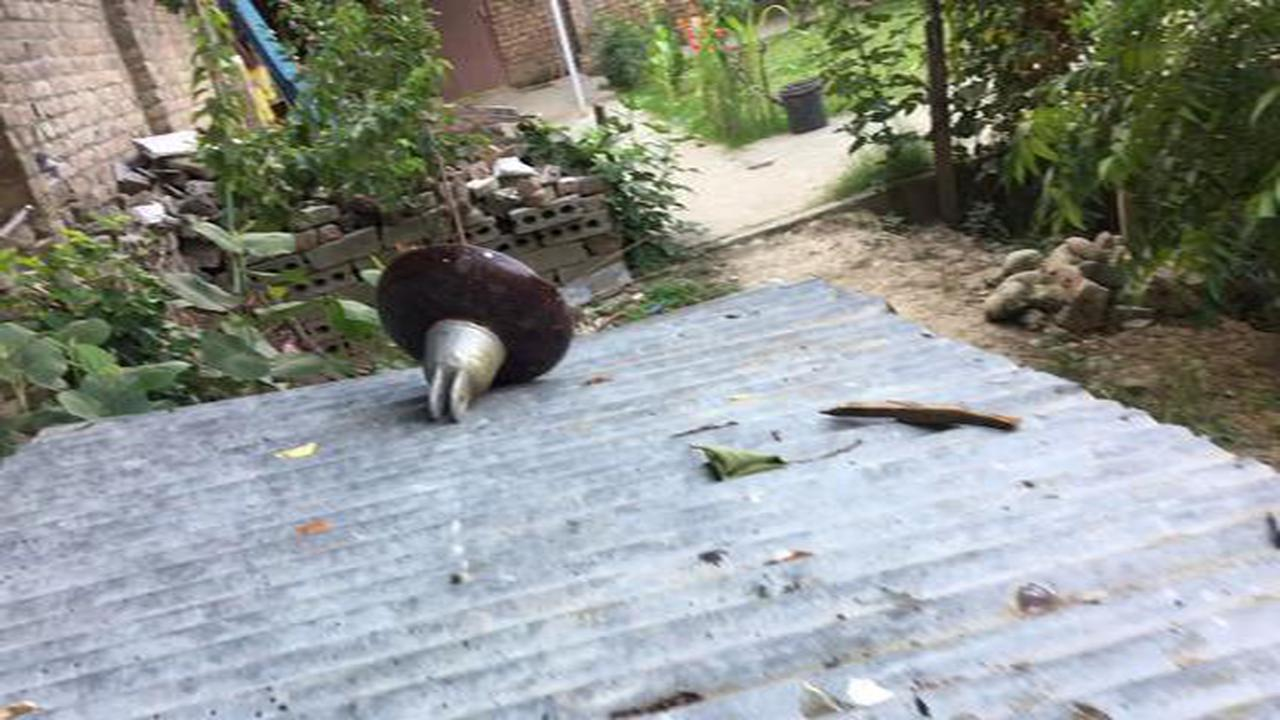insulator_disc: (374, 244, 584, 426)
